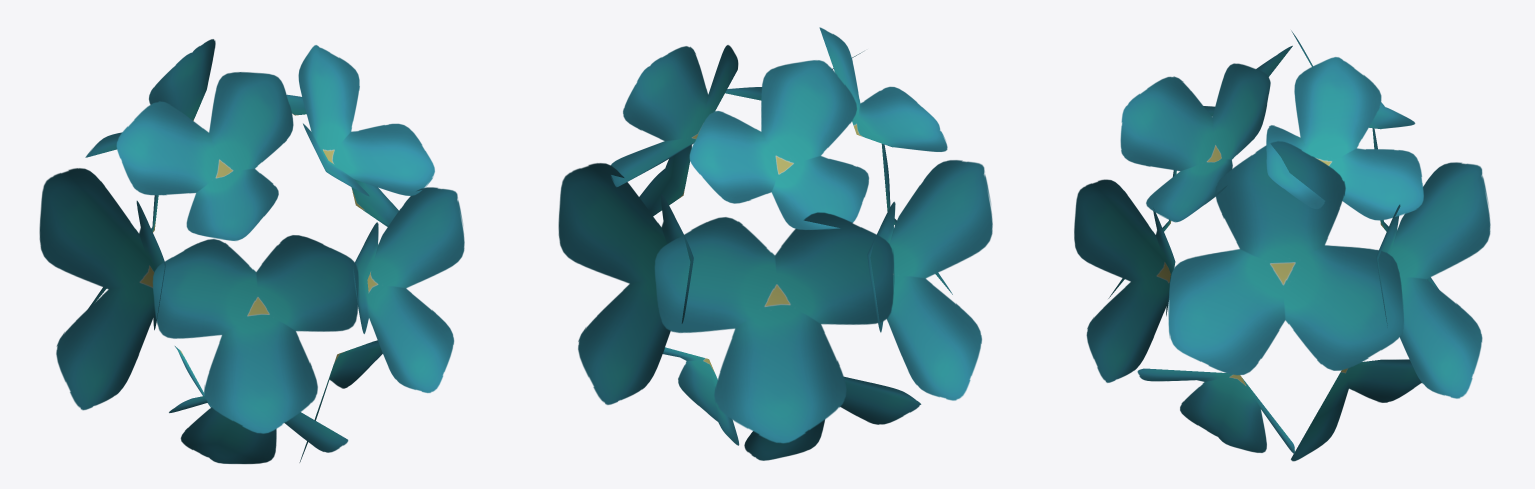
File: FlowerBush1.glb
3 views of the same model, side by side, from view 1: azimuth 30°, elevation 25°; view 2: azimuth 150°, elevation 25°; view 3: azimuth 270°, elevation 25° (orthographic).
Visible parts, largest first — view 1: Petals_1; view 2: Petals_1; view 3: Petals_1.
Part boxes in pixels (<box>): Petals_1: <box>39,39,464,464</box>; Petals_1: <box>558,27,992,460</box>; Petals_1: <box>1074,30,1490,461</box>.
Bounding box in the file's own units: 0.6381 × 0.6267 × 0.6698.
Materials: 1 (1 with a texture image).
